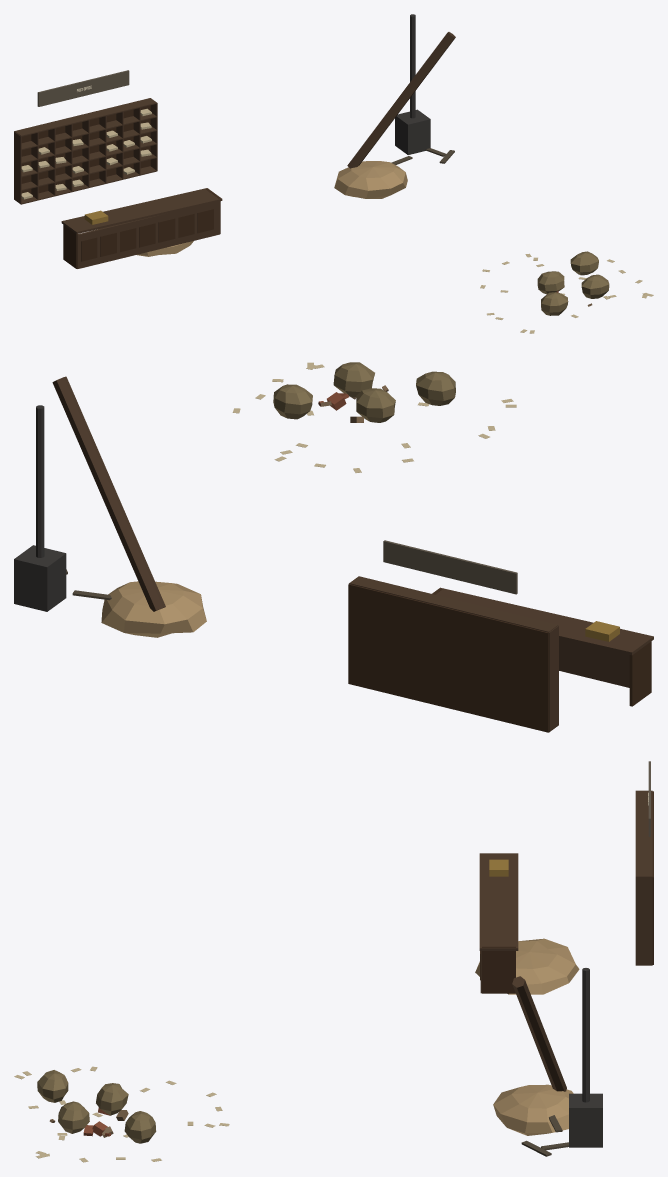
Rendered from TownRoom_post.glb.
3 renders of one model, top to bottom at view 1: azimuth 30°, elevation 25°; view 2: azimuth 150°, elevation 25°; view 3: azimuth 270°, elevation 25°, orthographic. The views are drawn at different scales.
Visible parts, largest first — view 1: TownRoom_post.001; view 2: TownRoom_post.001; view 3: TownRoom_post.001.
Boxes of the visible parts, box(x1,y1,x2,y2) form: TownRoom_post.001: box(14, 14, 653, 333); TownRoom_post.001: box(14, 362, 653, 732); TownRoom_post.001: box(14, 761, 653, 1162).
Bounding box in the file's own units: 12.76 × 4.42 × 13.23.
